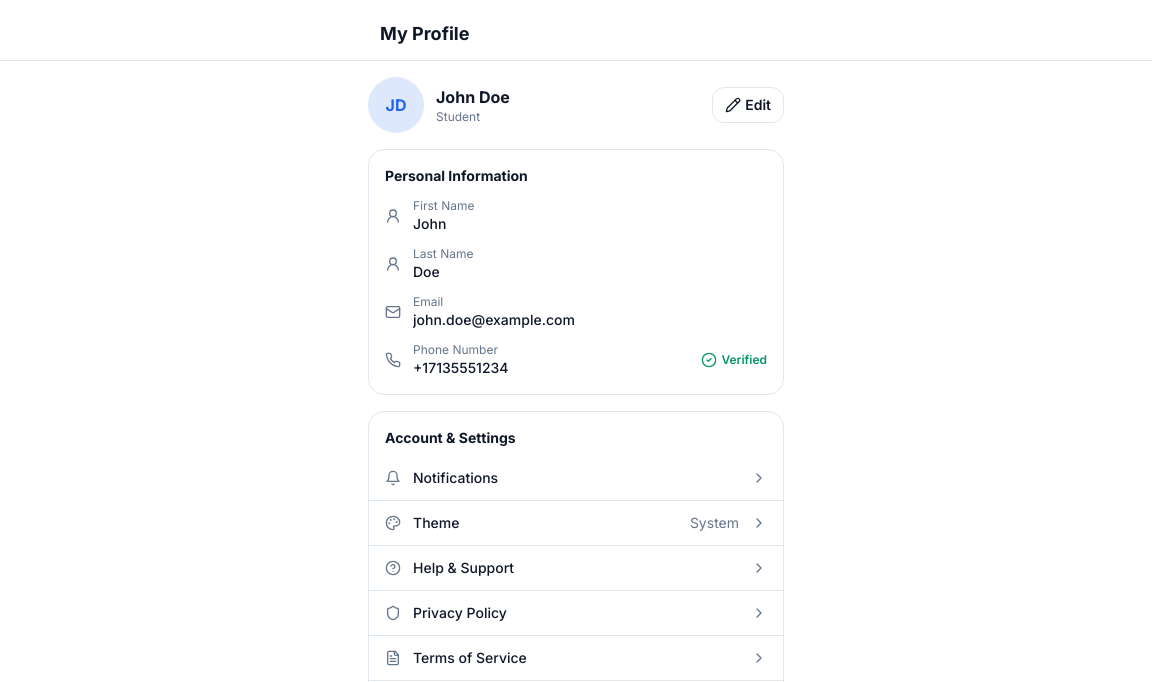
Test: StudentProfilePage › Theme button cycles through System → Light → Dark
The image size is (1152, 682).
Click the button "Theme System" at (436, 522), box [369, 501, 783, 545]
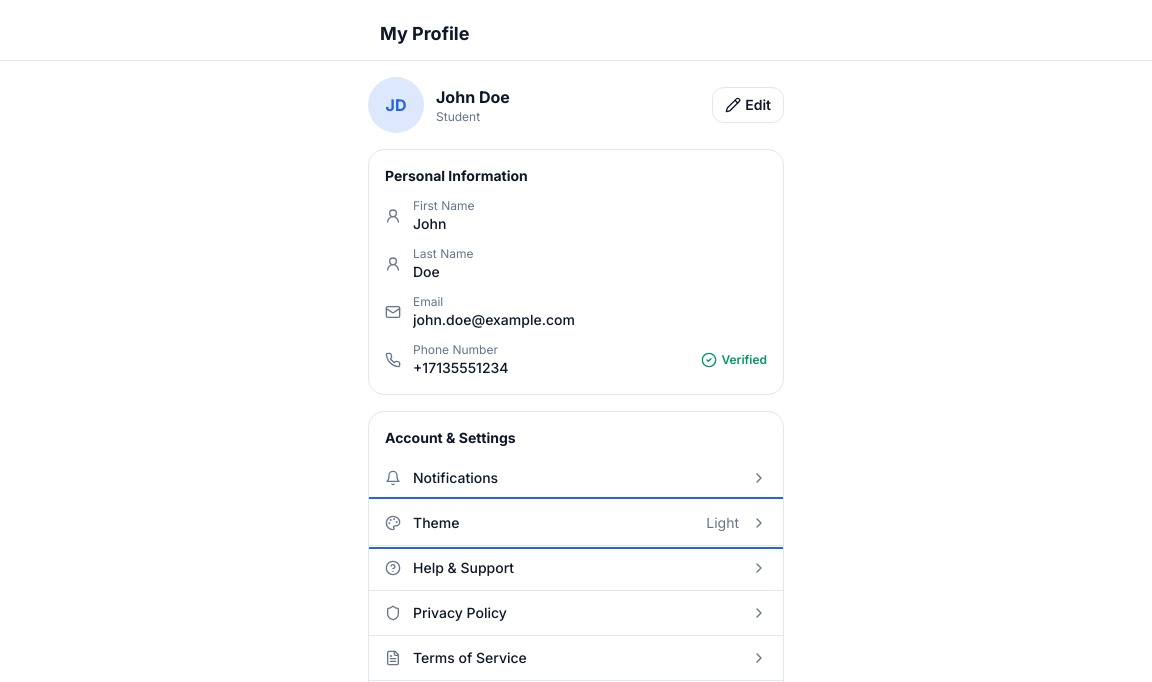
Now the button "Theme Light" is shown
Click the button "Theme Light" at (436, 522), box [369, 501, 783, 545]
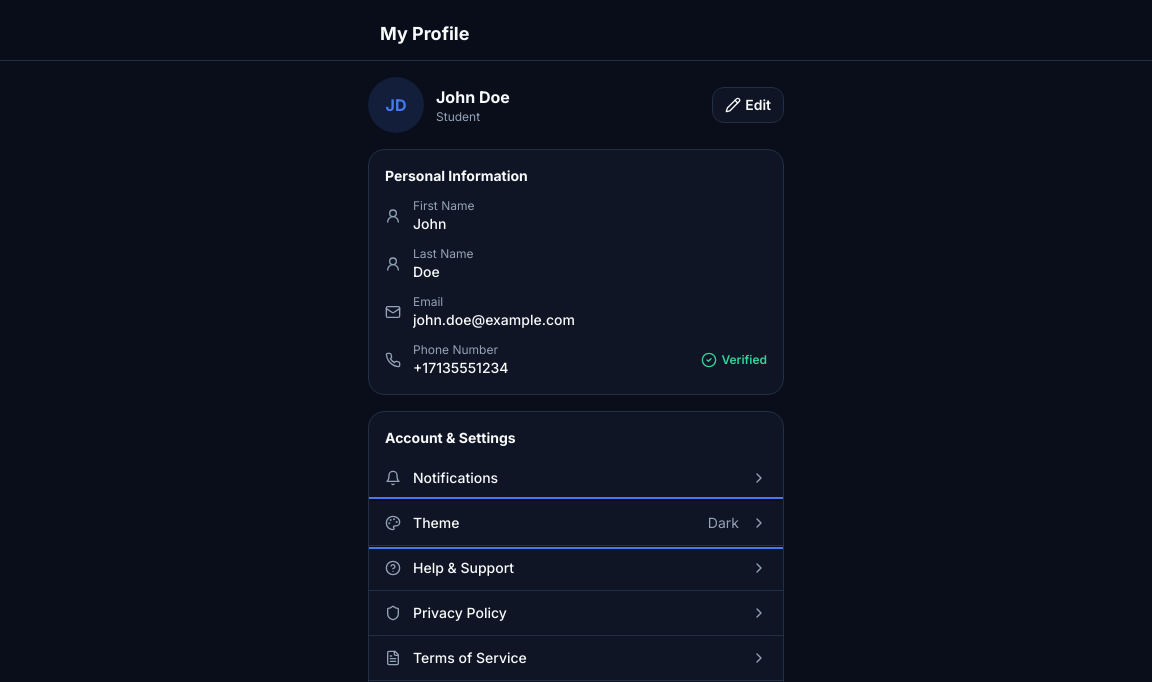
Now the button "Theme Dark" is shown, box [369, 501, 783, 545]
